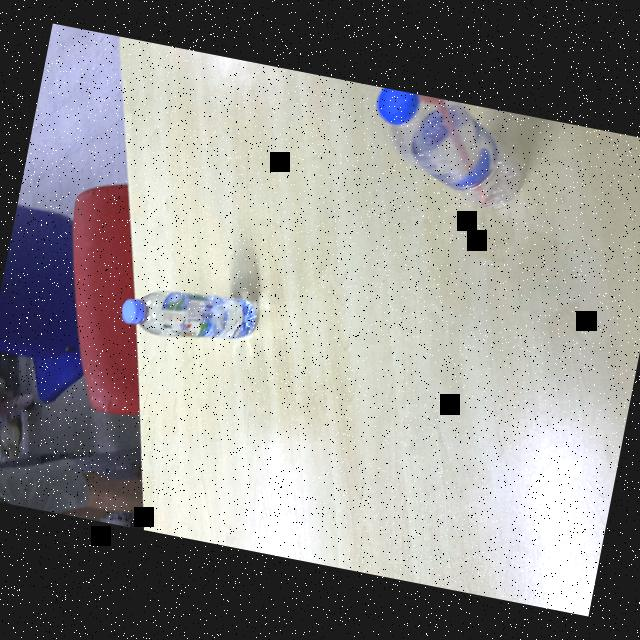plastic_bottle: (360, 87, 535, 215), (116, 274, 263, 354)
